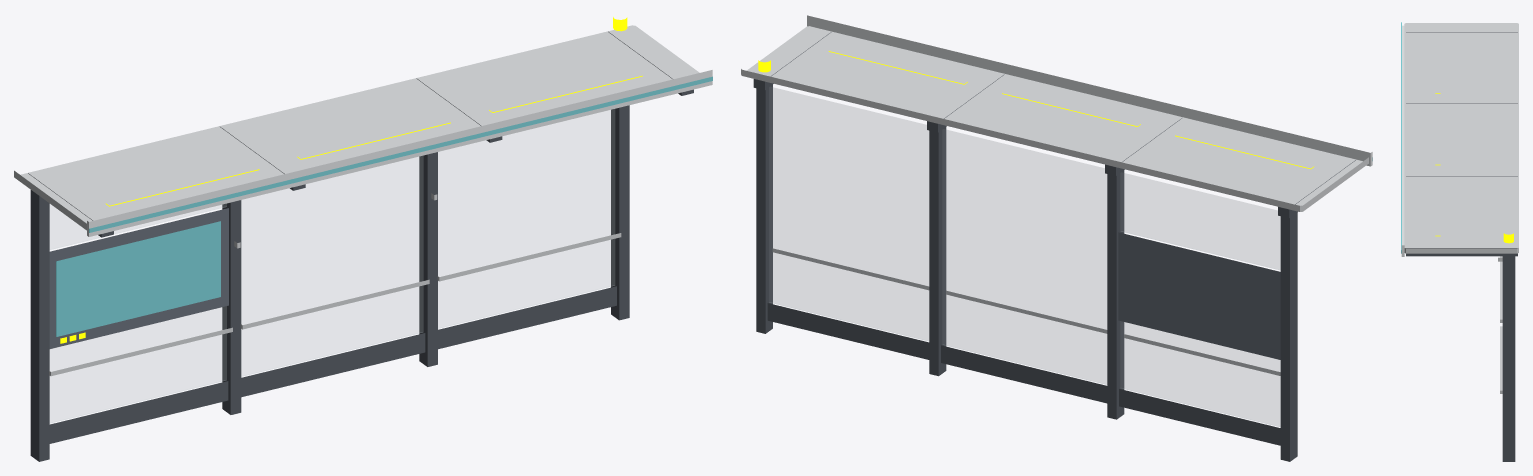
File: ext_tram_shelter_02.glb
The picture shows the model from 3 angles, left to right: view 1: azimuth 30°, elevation 25°; view 2: azimuth 150°, elevation 25°; view 3: azimuth 270°, elevation 25°; orthographic projection. The views are drawn at different scales.
Visible parts, largest first — view 1: Rear_Glass, Roof, Posts, Timetable_Screen, Kick_Rails, Fascia, Timetable_Frame, Civic_Stripe, Lean_Rail, Roof_Downlight; view 2: Rear_Glass, Roof, Posts, Timetable_Frame, Kick_Rails, Fascia, Lean_Rail, Cantilever_Beams; view 3: Roof, Posts, Cantilever_Beams, Fascia, Lean_Rail, Civic_Stripe.
Part boxes in pixels (box(x1,y1,x2,y2)): Rear_Glass: box(50, 109, 614, 423); Roof: box(14, 25, 699, 230); Posts: box(30, 105, 629, 461); Timetable_Screen: box(56, 221, 220, 336); Kick_Rails: box(49, 286, 616, 443); Fascia: box(87, 70, 712, 236); Timetable_Frame: box(49, 208, 228, 348); Civic_Stripe: box(89, 76, 712, 232); Lean_Rail: box(49, 233, 621, 376); Roof_Downlight: box(105, 75, 642, 206); Rear_Glass: box(769, 87, 1280, 426); Roof: box(741, 26, 1368, 211); Posts: box(756, 85, 1297, 461); Timetable_Frame: box(1118, 232, 1280, 359); Kick_Rails: box(767, 303, 1280, 445); Fascia: box(807, 15, 1372, 166); Lean_Rail: box(772, 248, 1280, 375); Cantilever_Beams: box(753, 32, 1355, 218); Roof: box(1404, 23, 1518, 253); Posts: box(1502, 256, 1515, 461); Cantilever_Beams: box(1406, 32, 1517, 256); Fascia: box(1401, 25, 1404, 256); Lean_Rail: box(1500, 256, 1502, 393); Civic_Stripe: box(1401, 22, 1401, 253).
Bounding box in the file's own units: 6.02 × 2.76 × 1.3.
